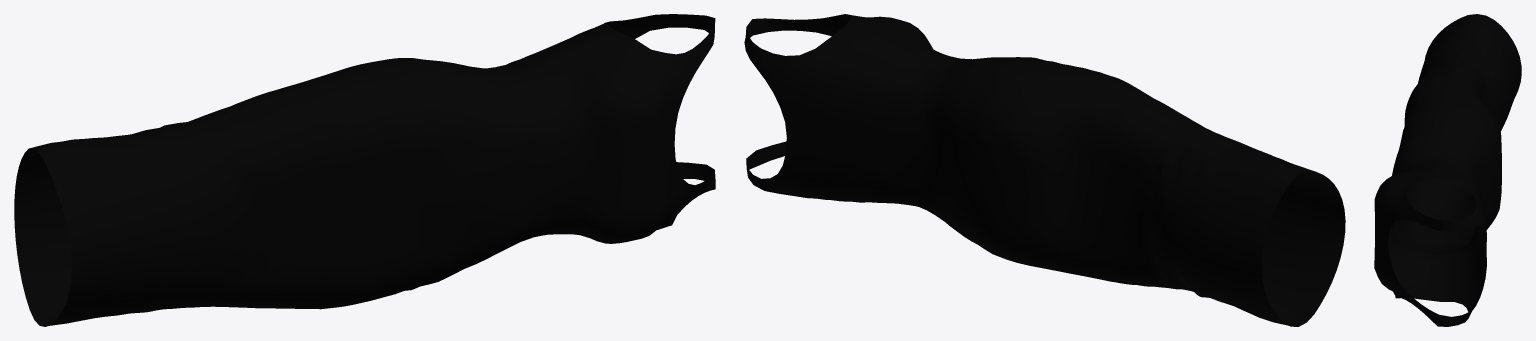
Rendered from small_blackBodycon_noinside.obj.
3 renders of one model, left to right at view 1: azimuth 30°, elevation 25°; view 2: azimuth 150°, elevation 25°; view 3: azimuth 270°, elevation 25°, orthographic. The views are drawn at different scales.
Visible parts, largest first — view 1: small_blackBodycon:Mesh; view 2: small_blackBodycon:Mesh; view 3: small_blackBodycon:Mesh.
Boxes of the visible parts, x1,y1,x2,y2 form: small_blackBodycon:Mesh: [14, 14, 715, 326]; small_blackBodycon:Mesh: [744, 14, 1345, 326]; small_blackBodycon:Mesh: [1374, 14, 1521, 326].
Size of the model in its own units: 1029 by 326 by 313.
2 materials, 2 textured.
